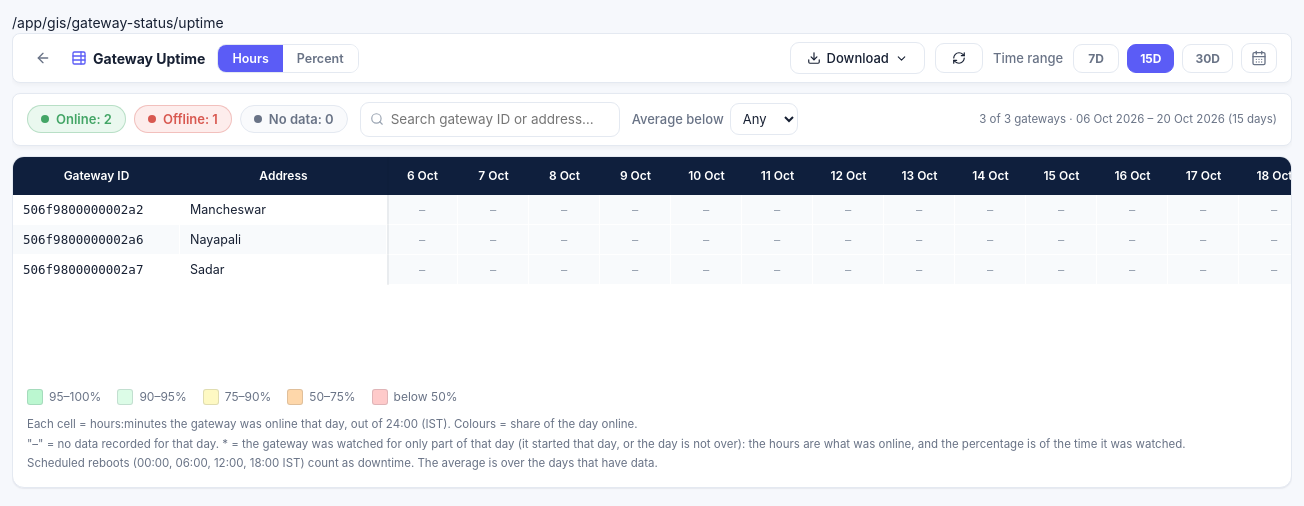
Test: Gateway Uptime page › filters by gateway ID or address, by status and by "average below"
Check: the text "506f9800000002a6" is shown, box [13,225,180,255]
Type "sadar" into the search field named "Search gateways" at (490, 119), box [360,102,620,137]
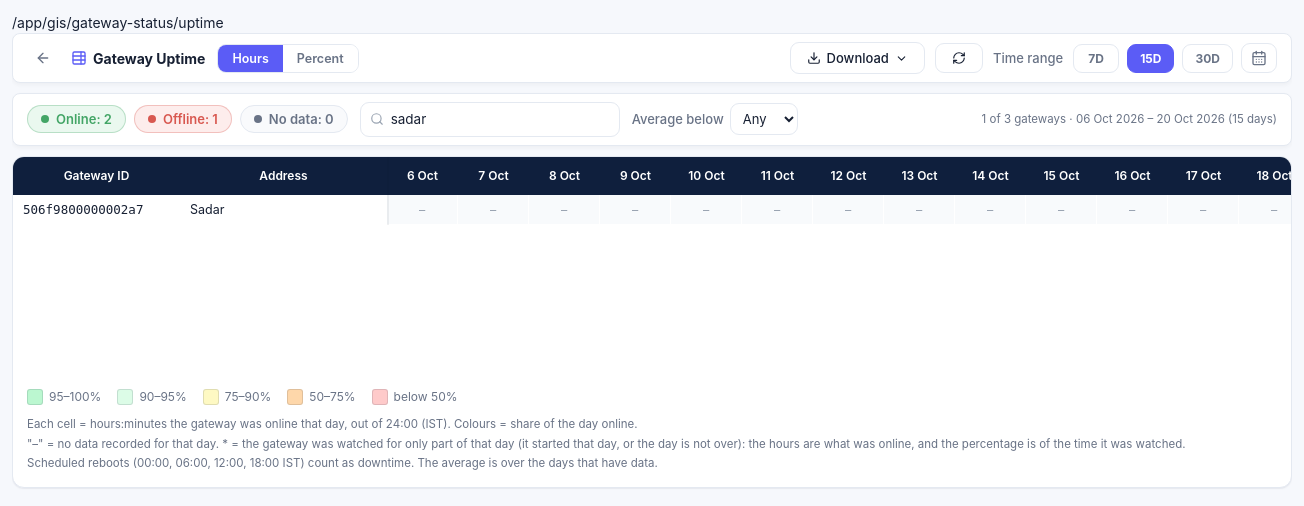
Clear the search field named "Search gateways" at (490, 119), box [360,102,620,137]
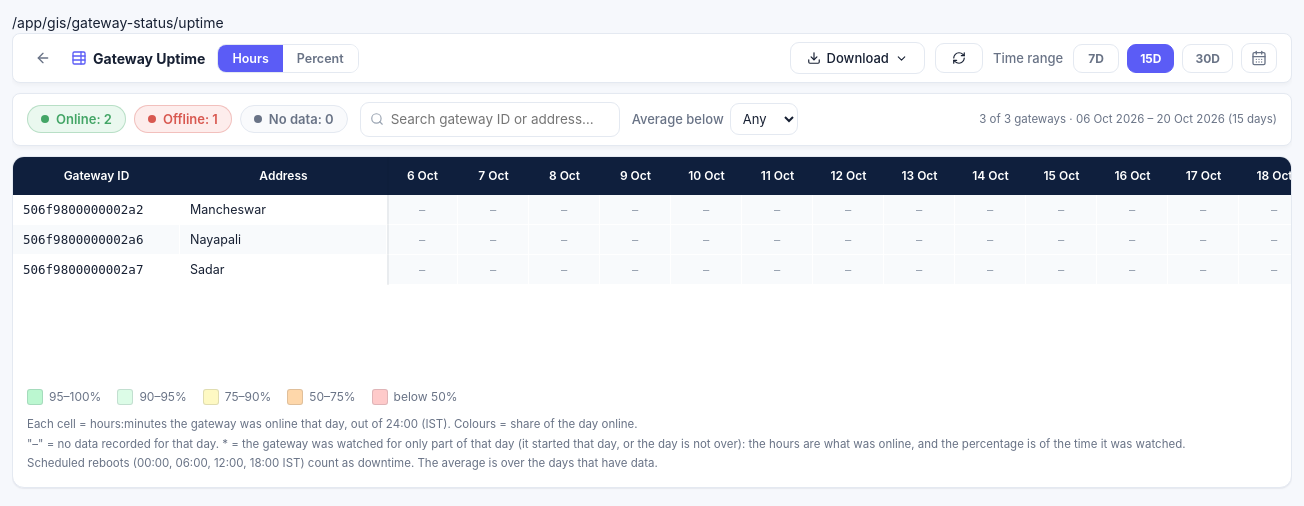
Click the button "Offline: 1" at (183, 119), box [134,105,232,133]
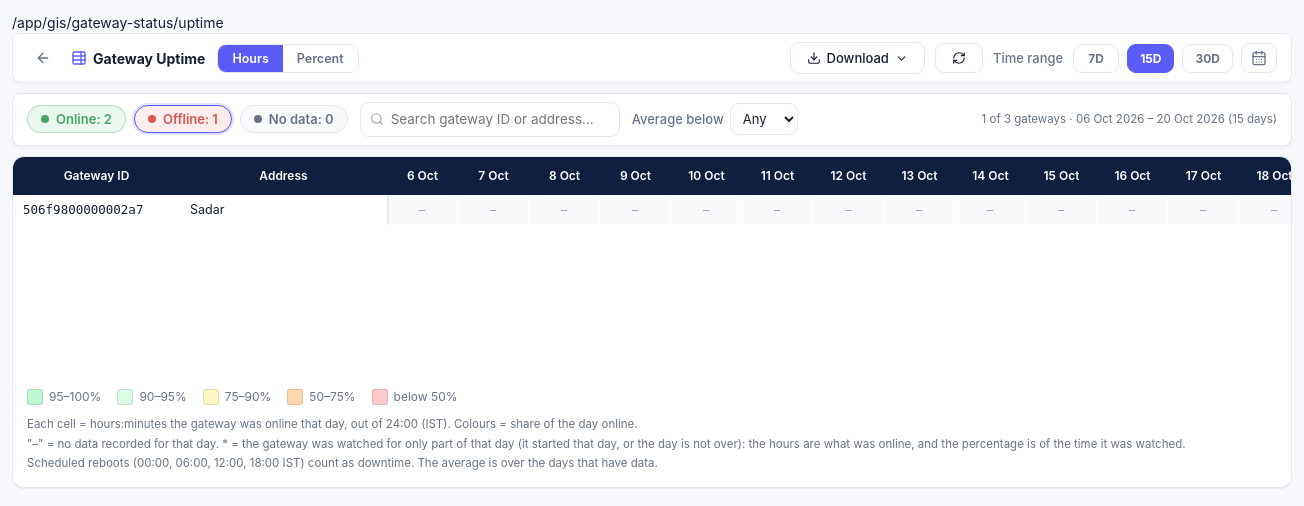
Click the button "Offline: 1" at (183, 119), box [134,105,232,133]
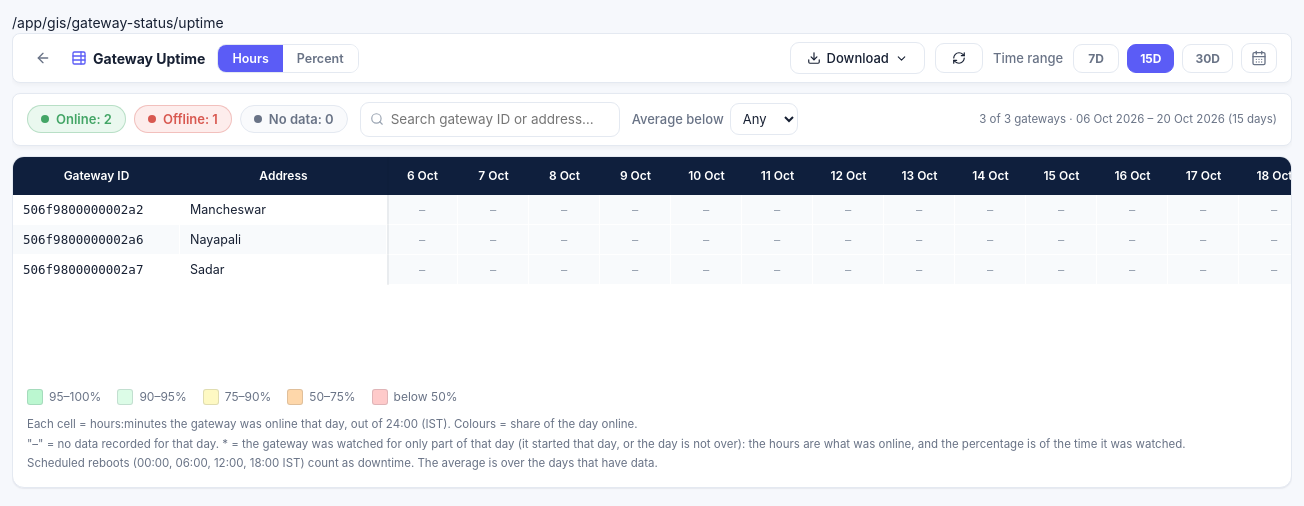
Select "75%" in the dropdown labelled "Average below" at (764, 119), box [730,103,798,135]
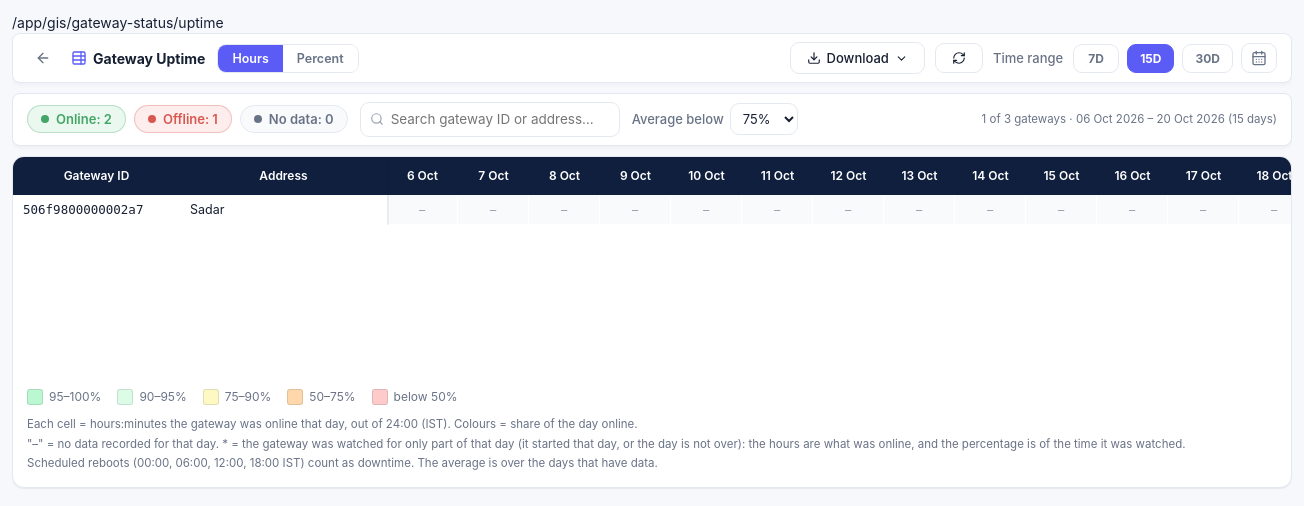
Check: the text "1 of 3 gateways · 06 Oct 2026 – 20 Oct 2026 (15 days)" is shown, box [982,111,1277,128]
